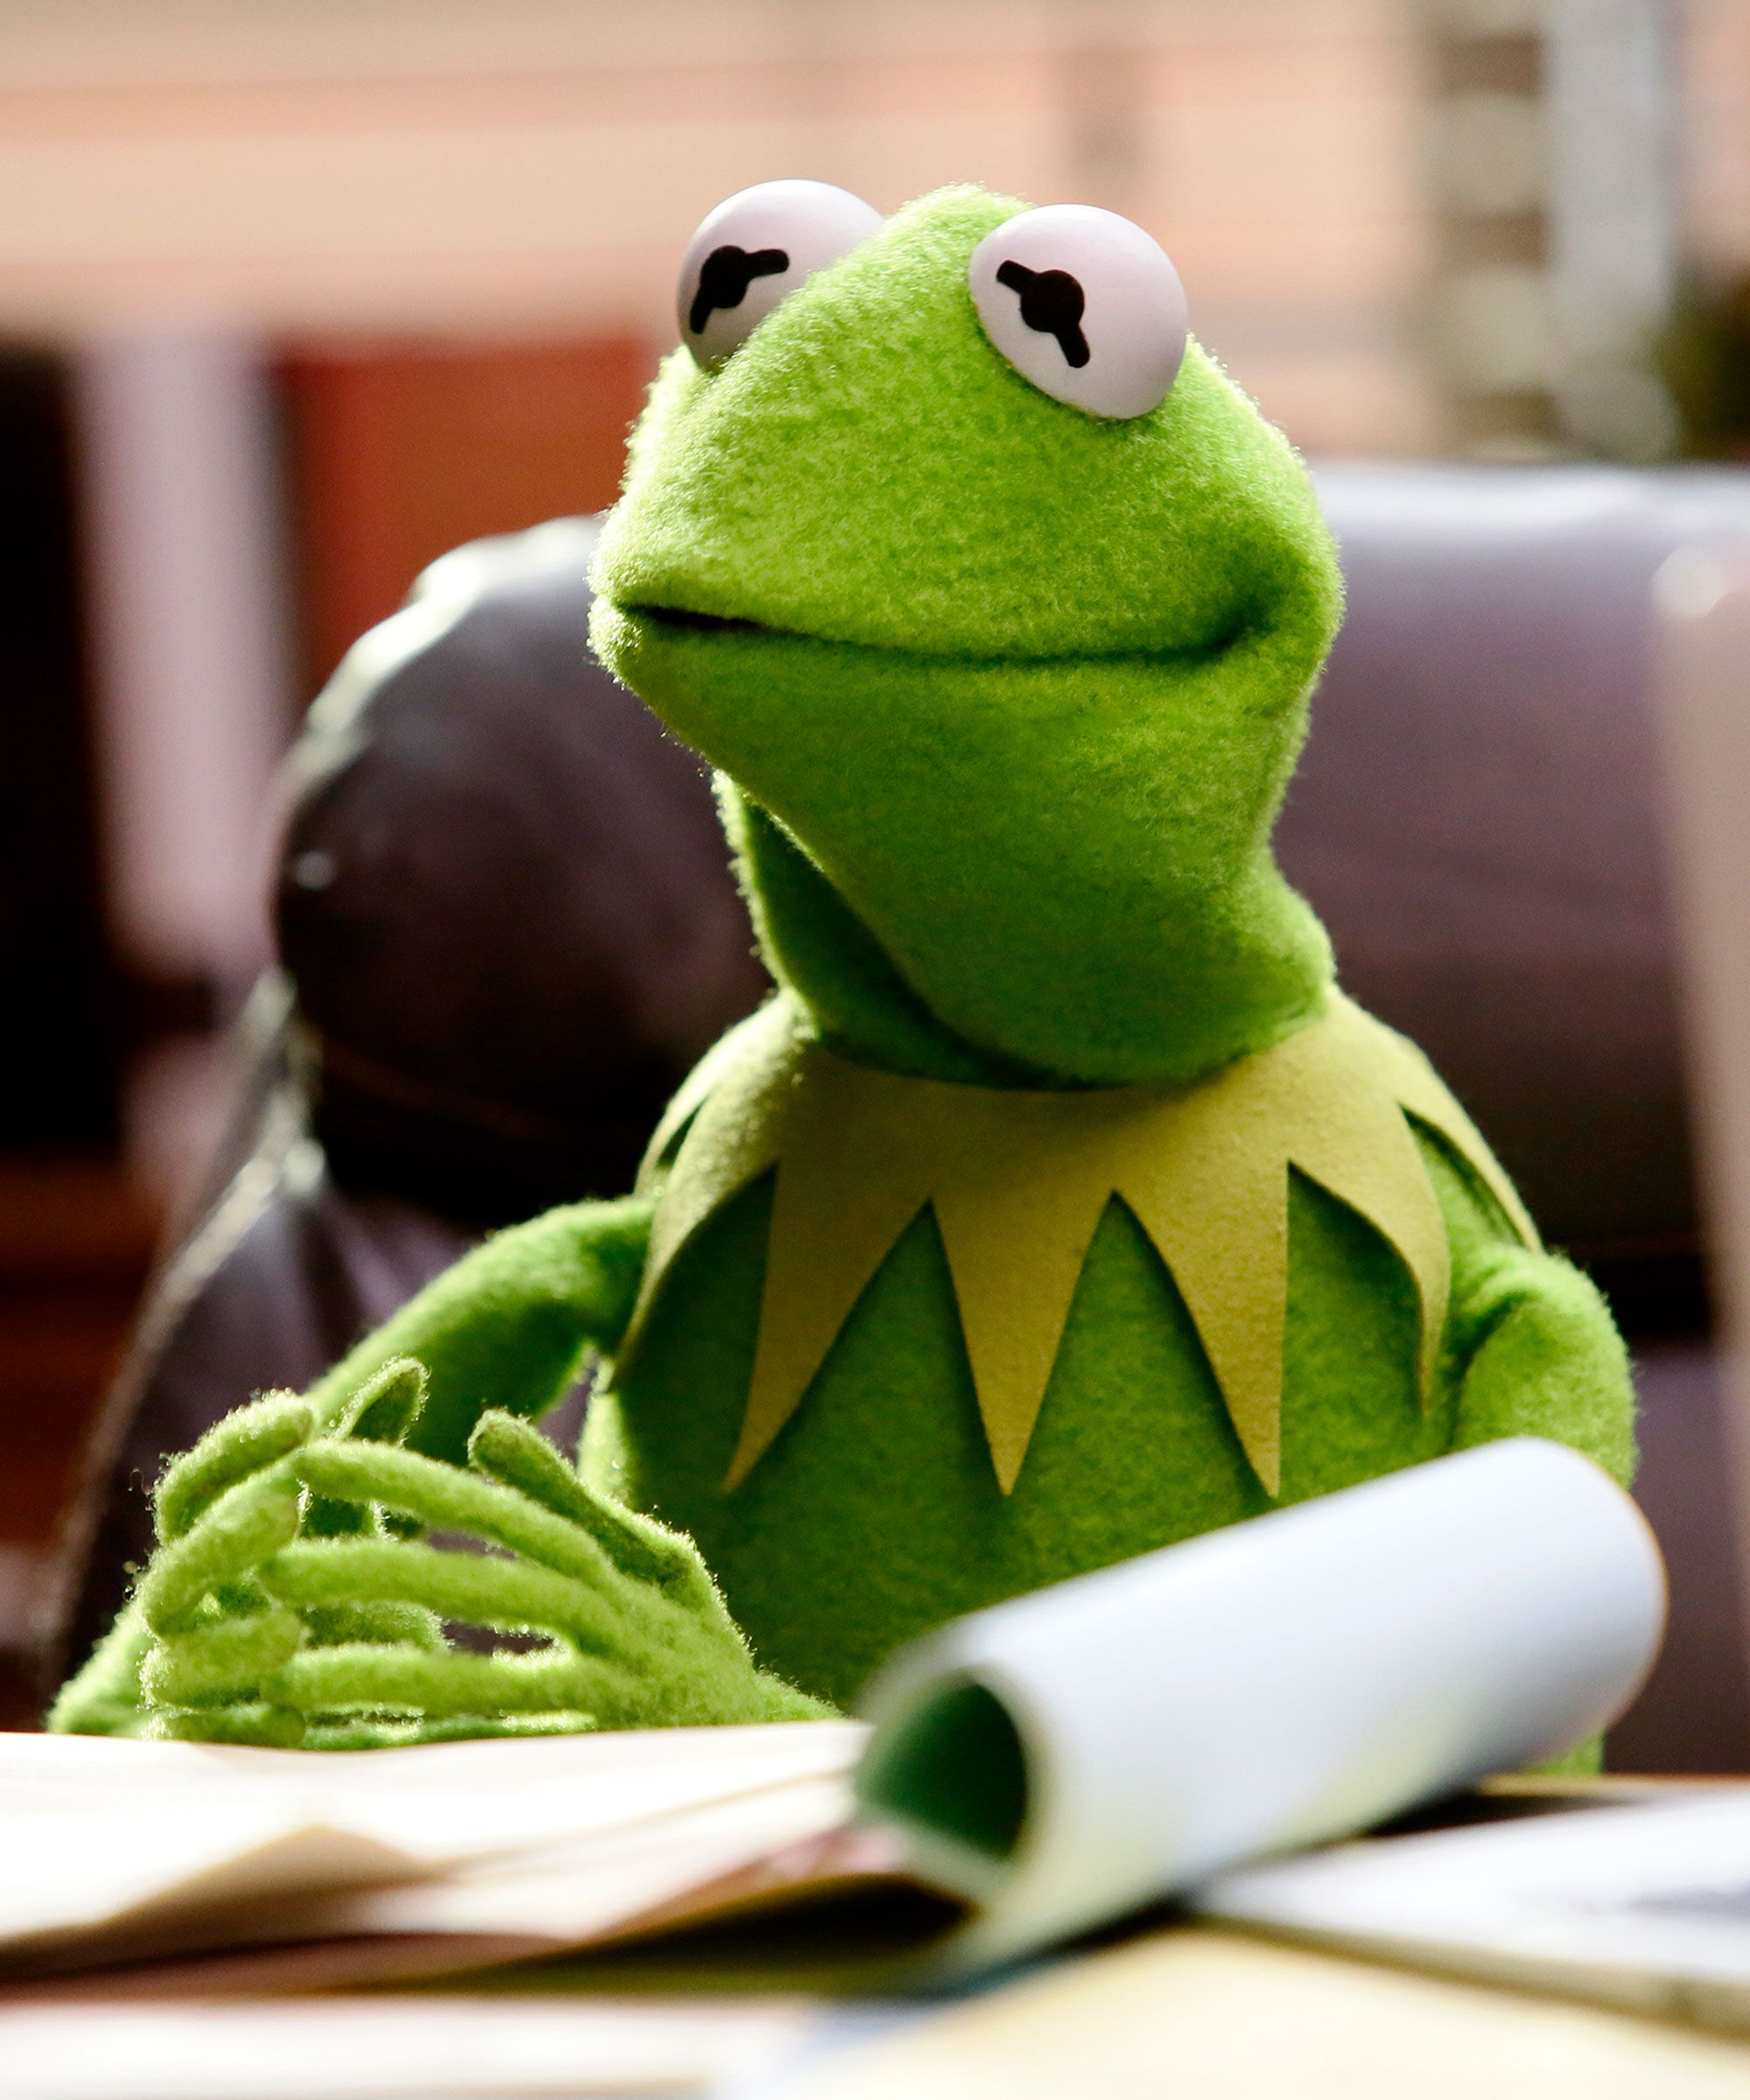kermit: (567, 157, 1389, 1067)
